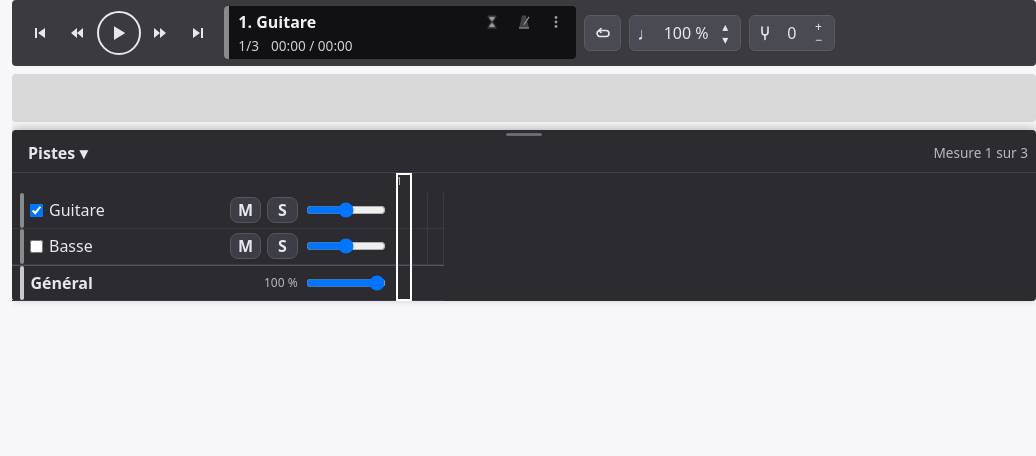
Test: GuitarProViewer, confort de travail (#33) › replie les réglages derrière un bouton (affiché sur téléphone)
Click the button with test id "tab-settings-toggle": (556, 22) [546,12,566,32]
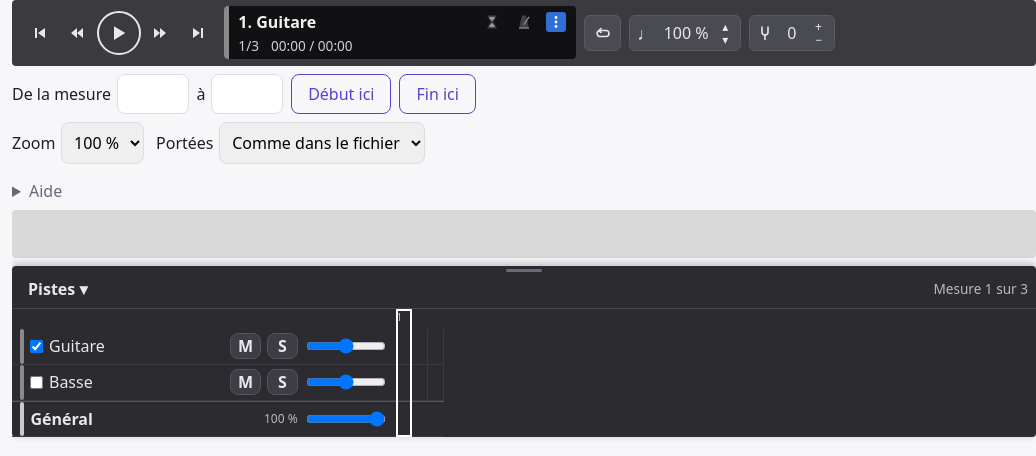
Expected: the button with test id "tab-settings-toggle" is expanded, [546,12,566,32]
